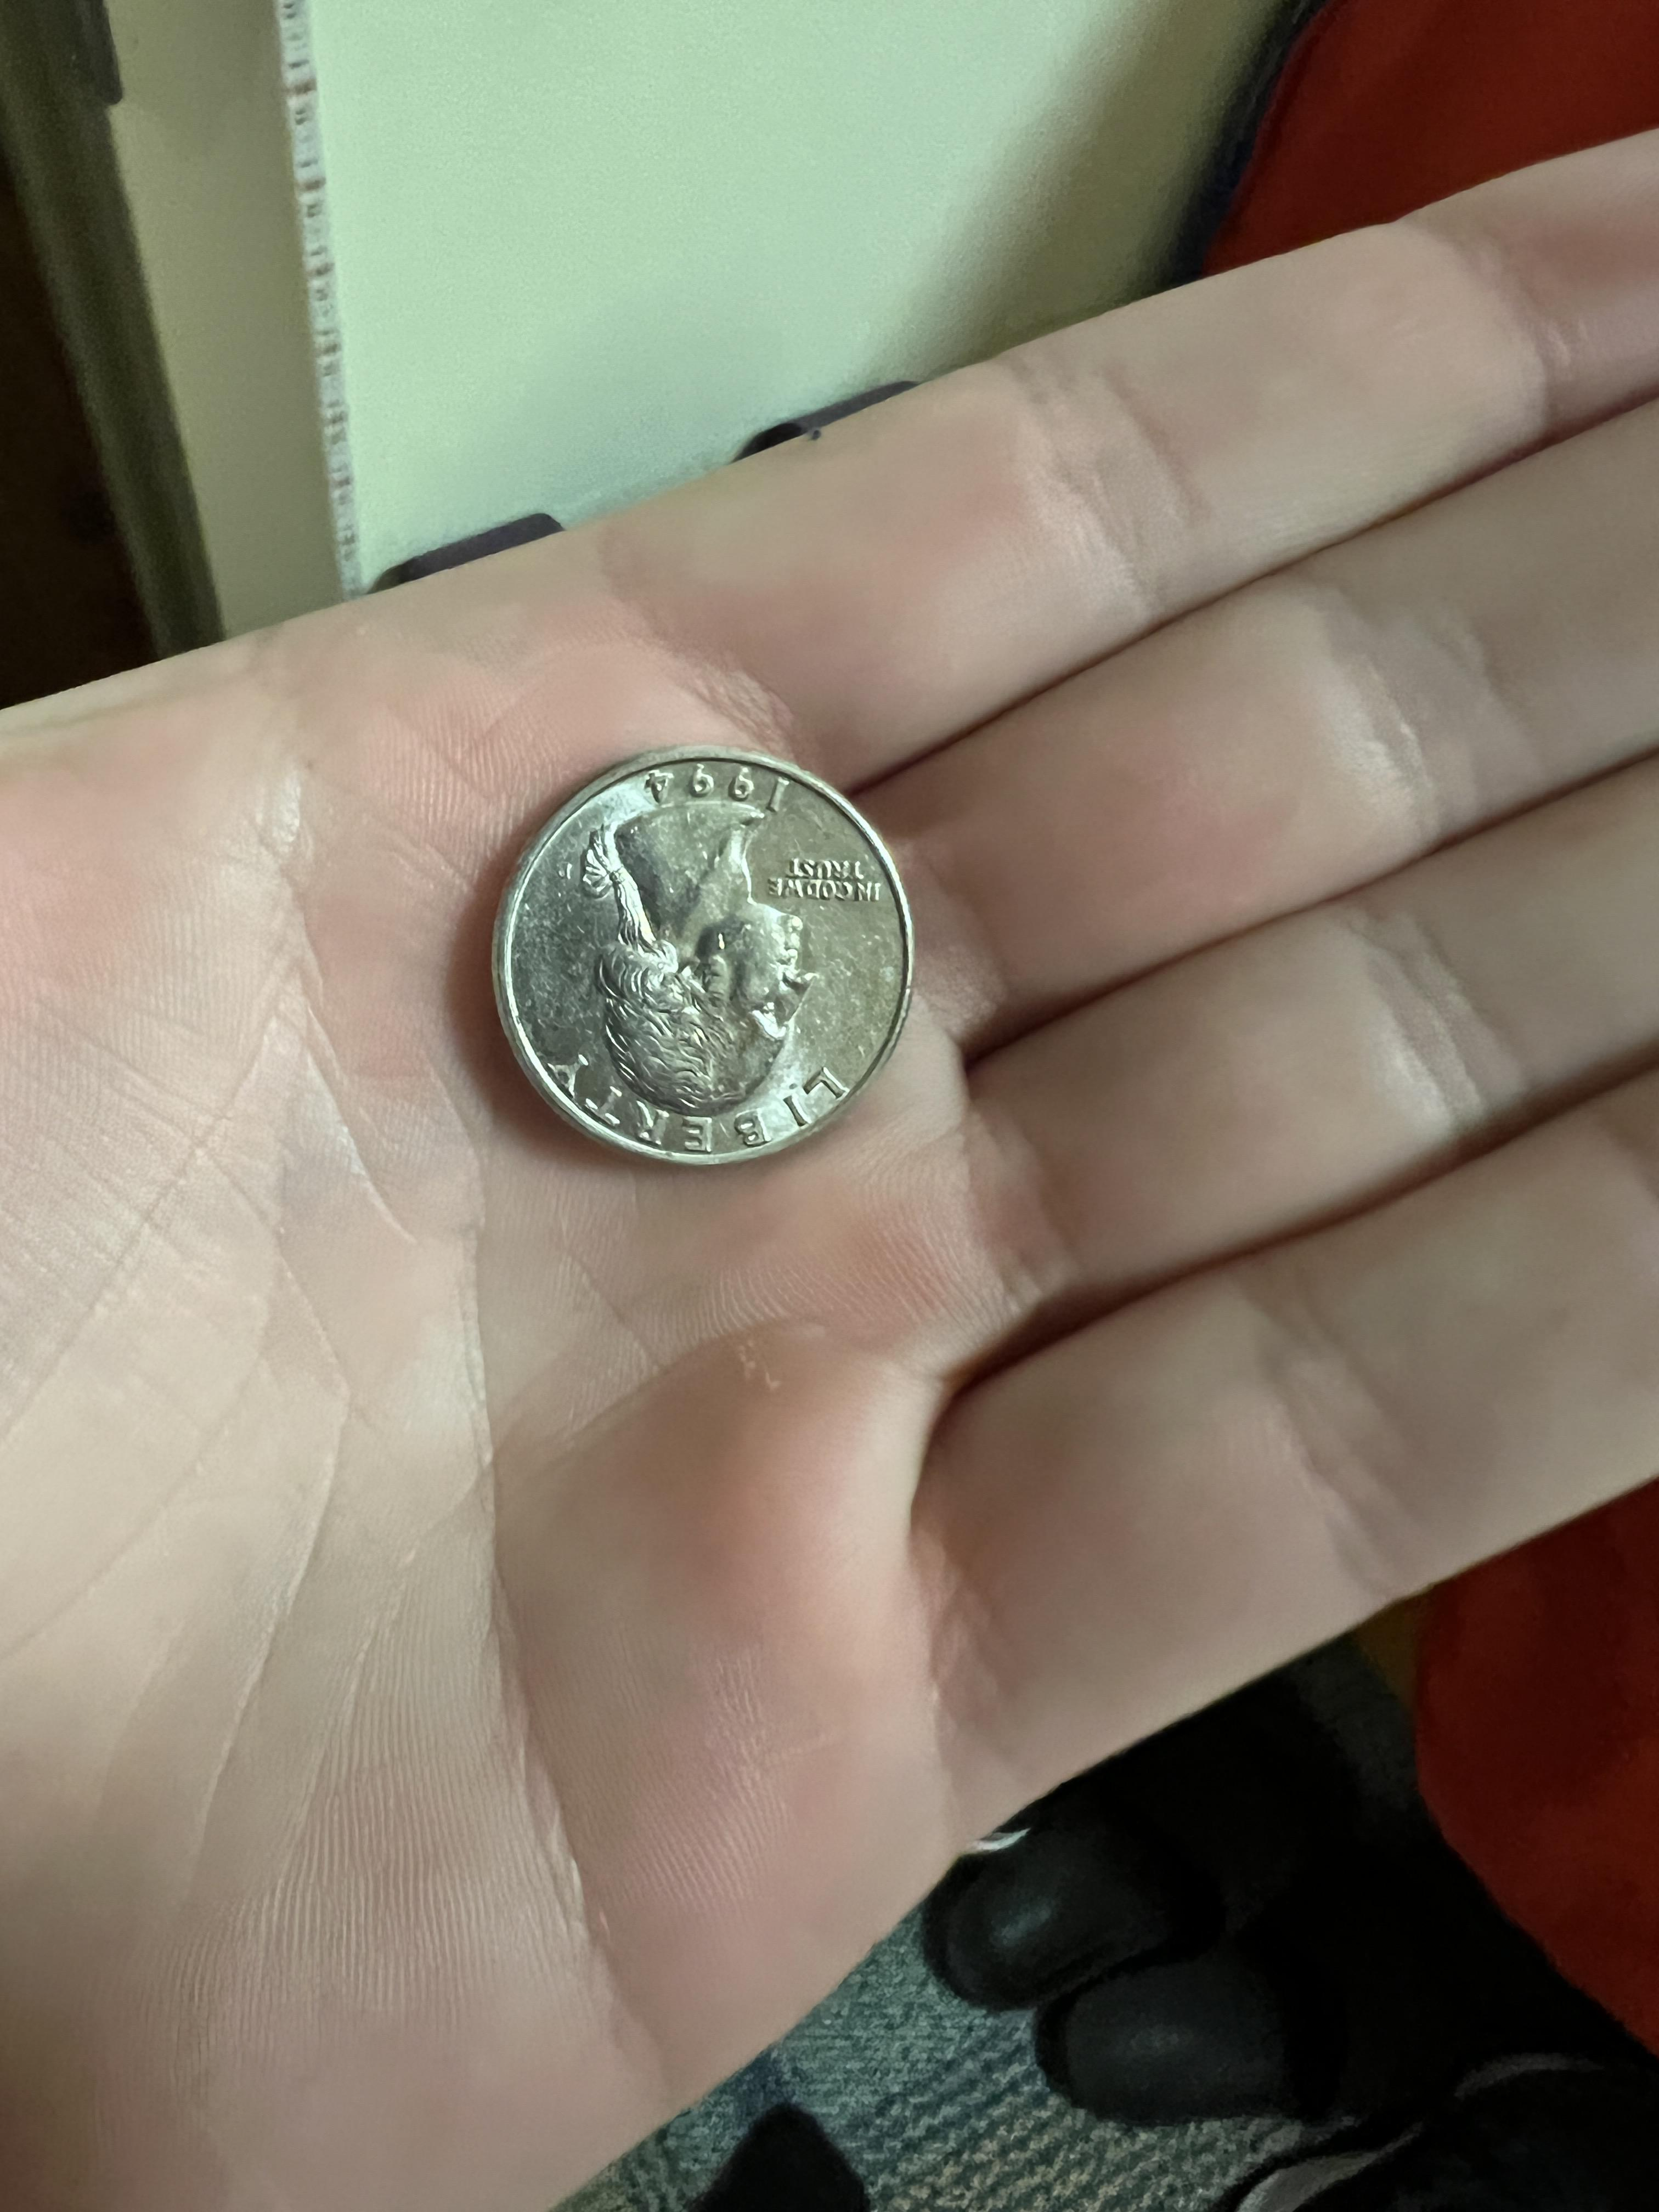Quarter: (484, 733, 925, 1181)
